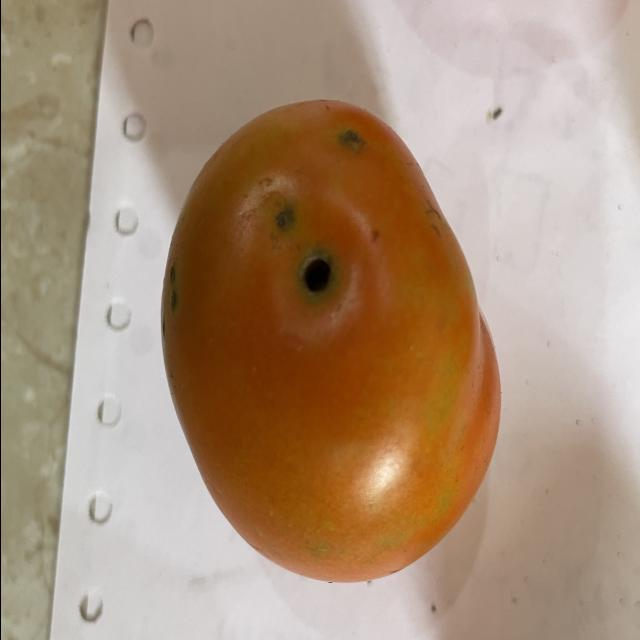fruitworm_bore: (268, 203, 342, 315)
